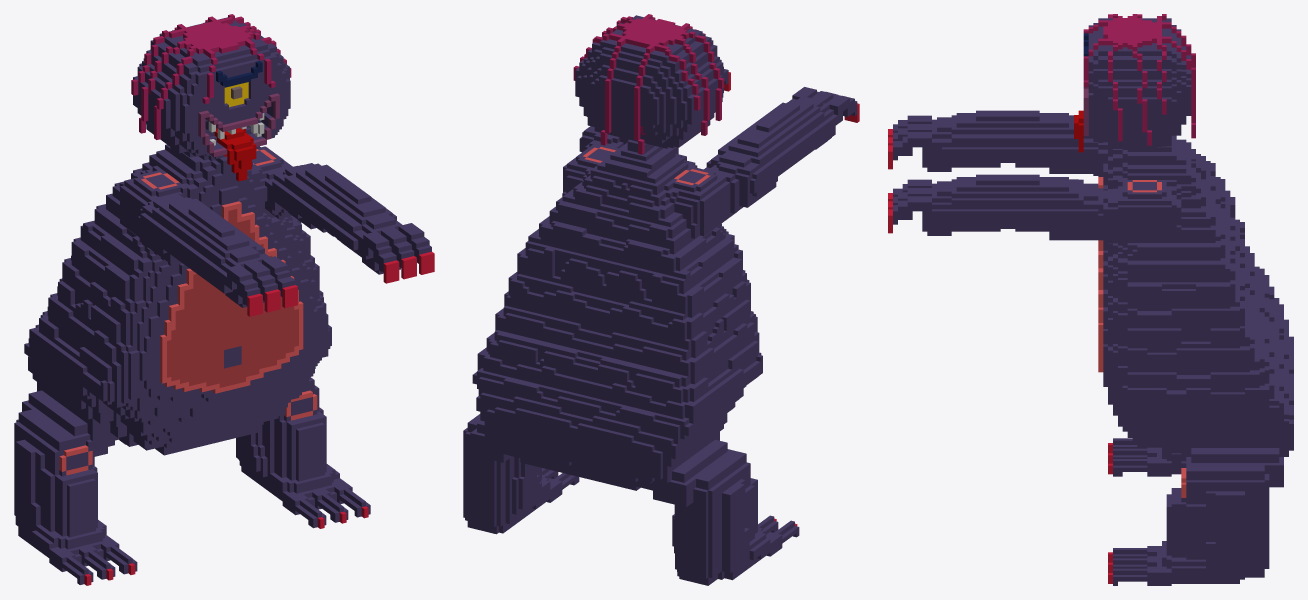
The model's file is JokerWarriror-11.obj.
The picture shows the model from 3 angles, left to right: view 1: azimuth 30°, elevation 25°; view 2: azimuth 150°, elevation 25°; view 3: azimuth 270°, elevation 25°; orthographic projection. The views are drawn at different scales.
Size of the model in its own units: 6.6 by 11 by 8.3.
1 material, 1 textured.
